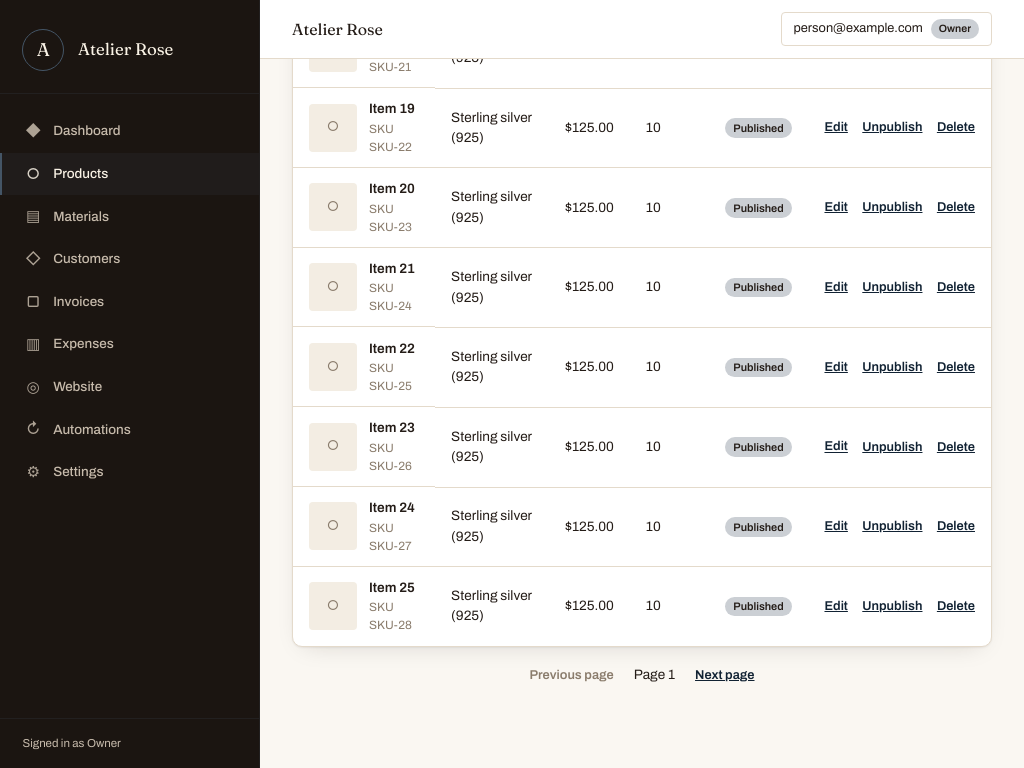
products list › pages through results 25 at a time
(page scrolled)
Check: the button "Previous page" is disabled, box left=530, top=662, right=614, bottom=688
Click the button "Next page" at (725, 675), box left=695, top=662, right=754, bottom=688
(page scrolled)
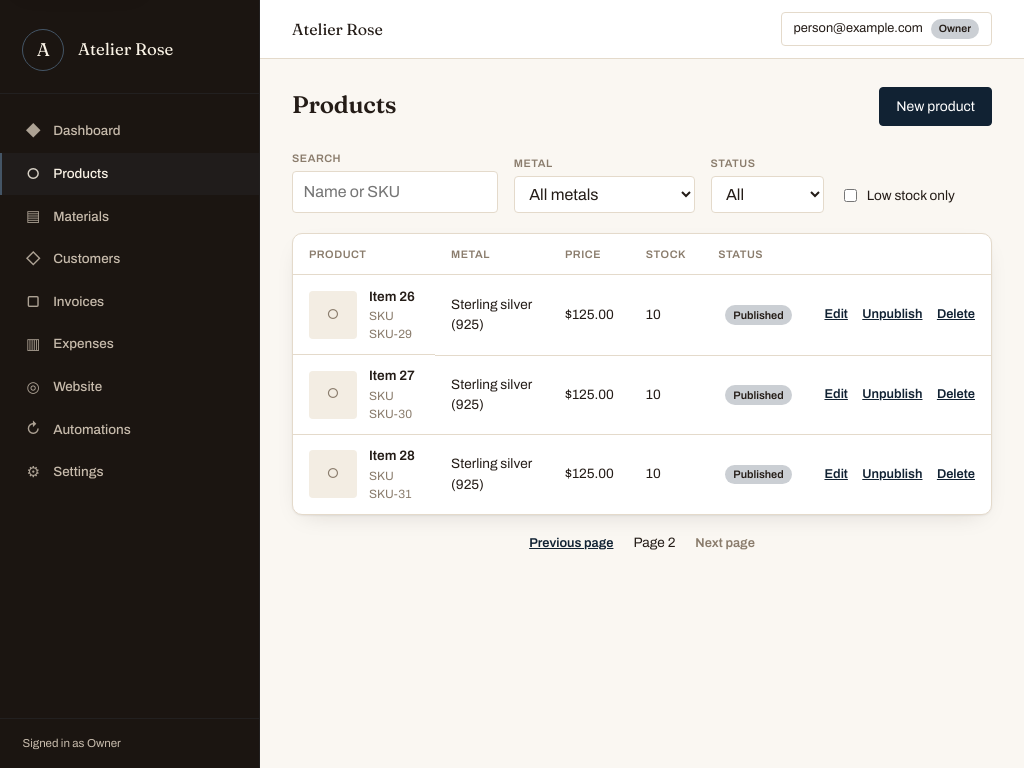
Check: the link "Item 26" is shown, box left=369, top=289, right=415, bottom=304
Check: the text "Page 2" is shown, box left=634, top=533, right=675, bottom=554
Check: the button "Next page" is disabled, box left=695, top=531, right=755, bottom=556
Click the button "Previous page" at (571, 544), box left=529, top=531, right=614, bottom=556
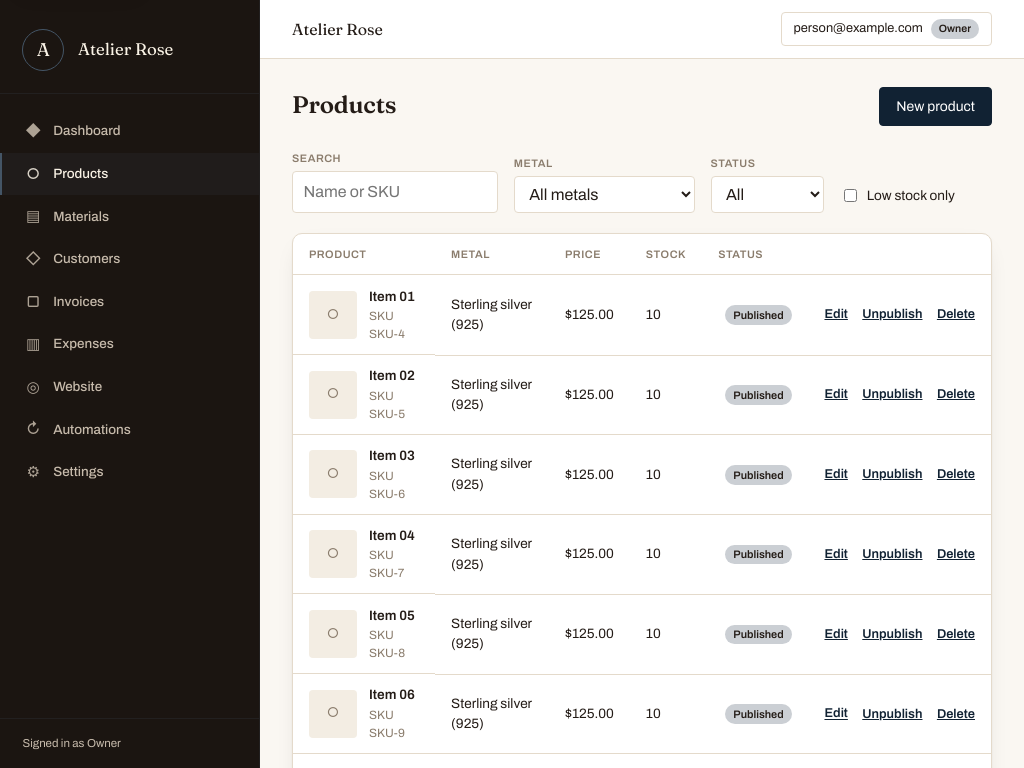
Check: the link "Item 01" is shown, box left=369, top=289, right=415, bottom=304
